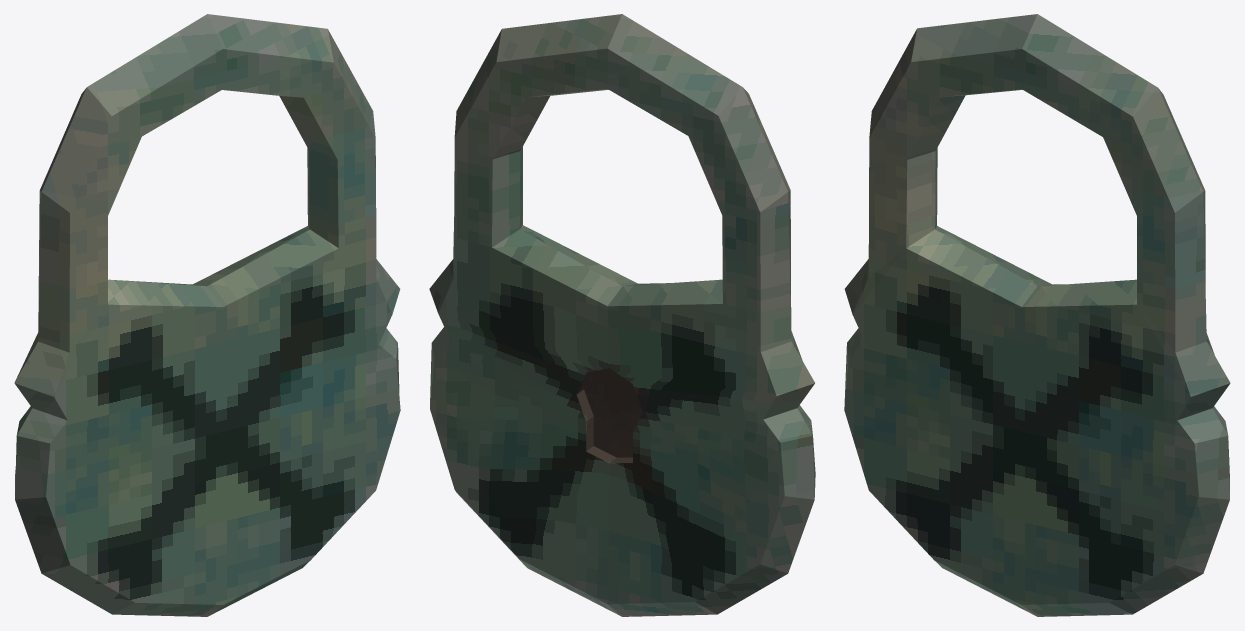
The model's file is item_halloween_crypt_lock.glb.
The picture shows the model from 3 angles, left to right: view 1: azimuth 30°, elevation 25°; view 2: azimuth 150°, elevation 25°; view 3: azimuth 330°, elevation 25°; orthographic projection.
Visible parts, largest first — view 1: crypt_lock; view 2: crypt_lock; view 3: crypt_lock.
Part boxes in pixels (x1=…): crypt_lock: x1=14, y1=14, x2=400, y2=616; crypt_lock: x1=429, y1=14, x2=815, y2=616; crypt_lock: x1=844, y1=14, x2=1230, y2=616.
Size of the model in its own units: 0.268 by 0.4 by 0.0371.
Materials: 1 (1 with a texture image).
